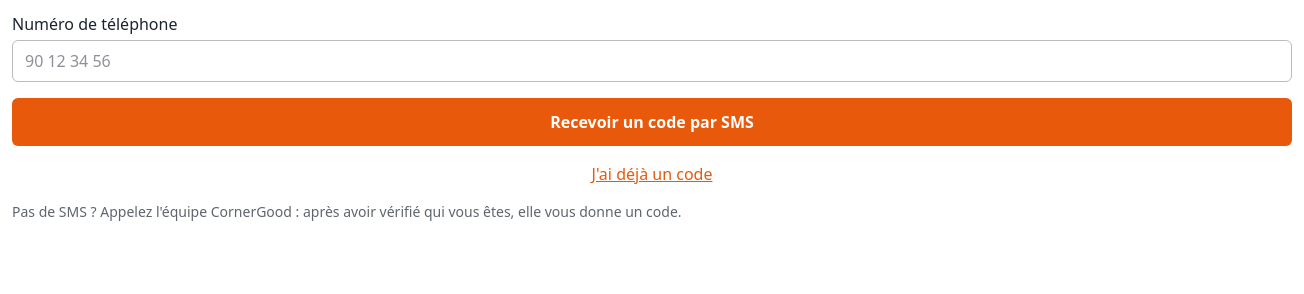
Test: PasswordResetForm › asks for the number first
Click the button "J'ai déjà un code" at (652, 174), box [12, 162, 1292, 186]
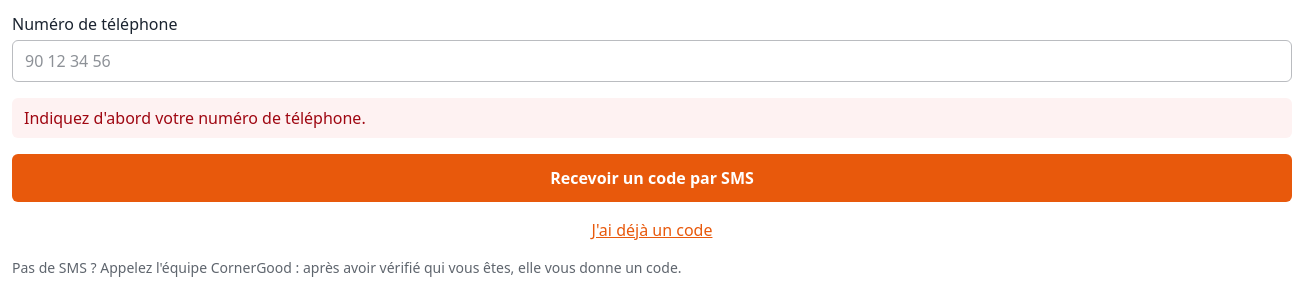
Expected: the message shows "numéro", [24, 107, 366, 129]
